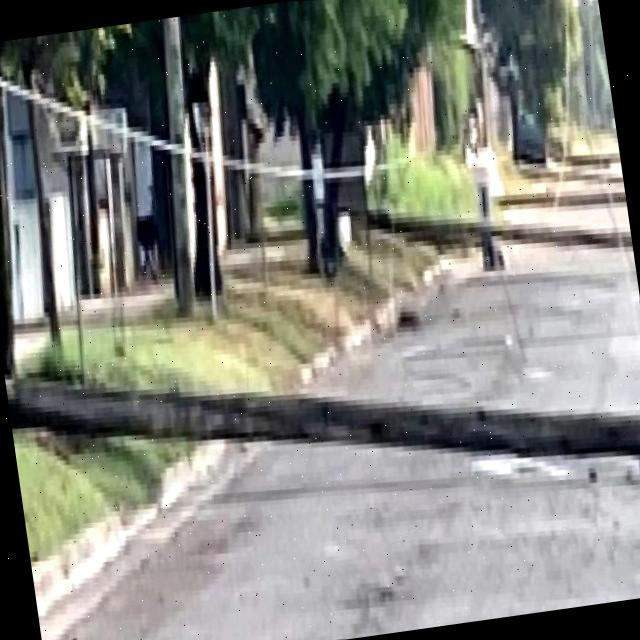Broken Pole: (6, 373, 640, 455)
